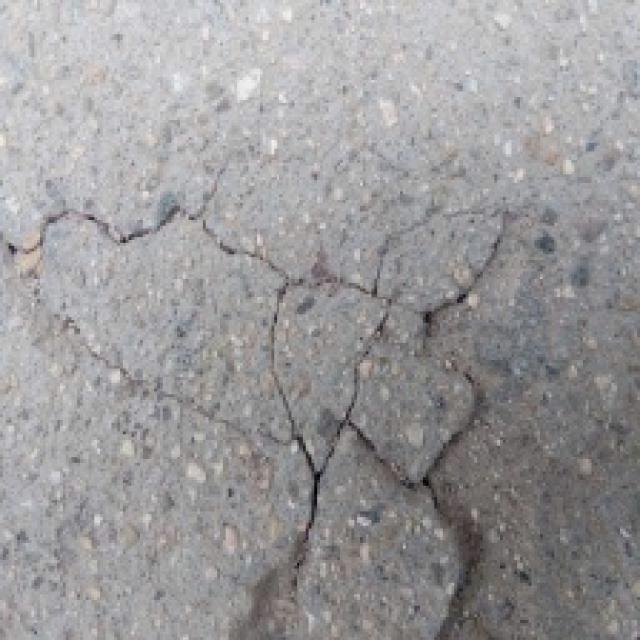SurfaceCrack: (0, 172, 518, 628)
